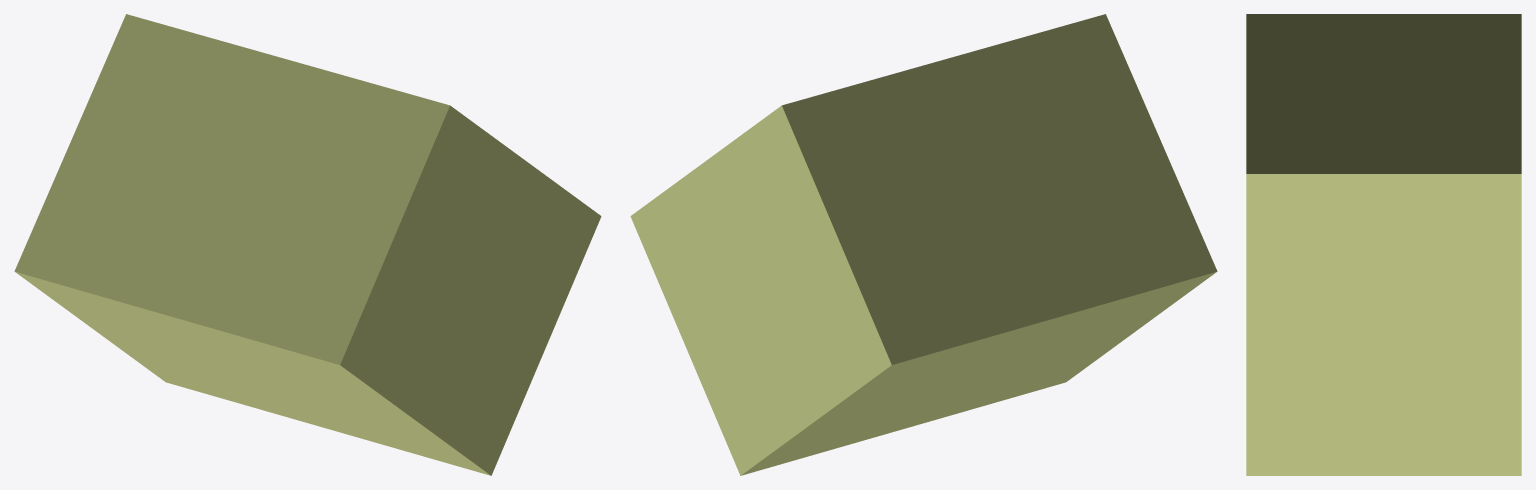
The picture shows the model from 3 angles, left to right: view 1: azimuth 30°, elevation 25°; view 2: azimuth 150°, elevation 25°; view 3: azimuth 270°, elevation 25°; orthographic projection. The views are drawn at different scales.
Parts seen in each view (by area): view 1: 0_1_0_0_2_1_0_2_2_0; view 2: 0_1_0_0_2_1_0_2_2_0; view 3: 0_1_0_0_2_1_0_2_2_0.
Part boxes in pixels (x1,y1,x2,y2): 0_1_0_0_2_1_0_2_2_0: (14,14,601,475); 0_1_0_0_2_1_0_2_2_0: (630,14,1217,475); 0_1_0_0_2_1_0_2_2_0: (1246,14,1521,475).
Bounding box in the file's own units: 14.96 × 13.23 × 9.
